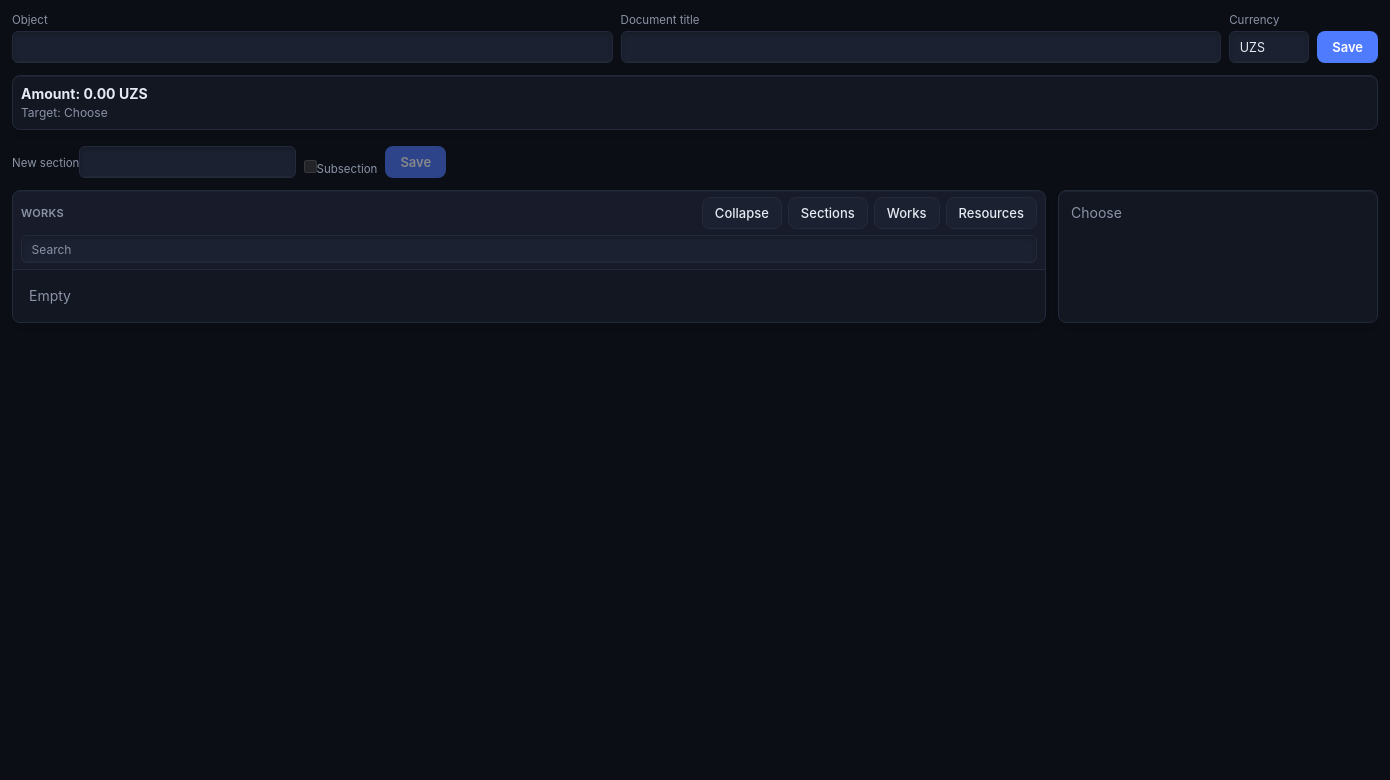
creates root section through canonical command and makes it the catalog target
This screenshot has width=1390, height=780.
Type "Foundations" into the field labelled "New section" at (188, 162), box [79,146,296,178]
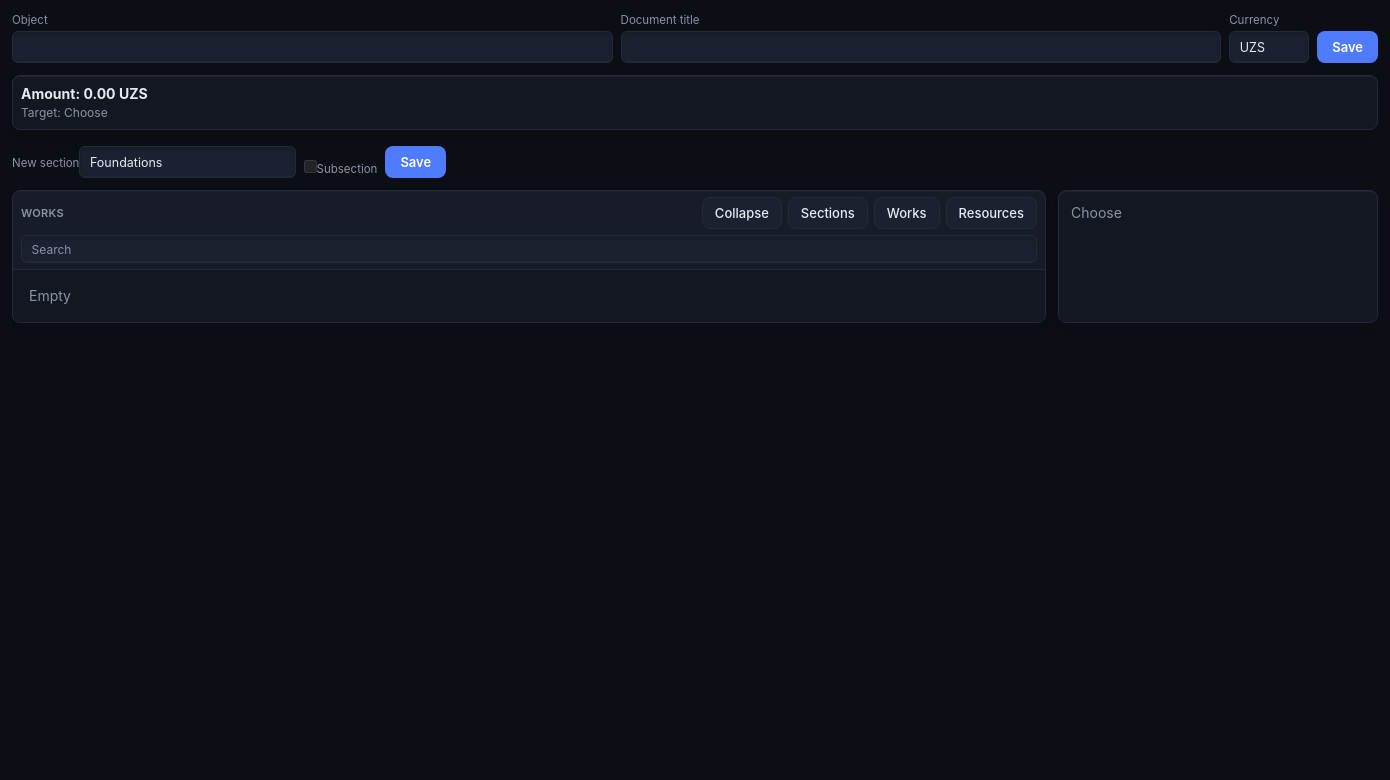
Submit the form labelled "New section", box [12,146,446,178]
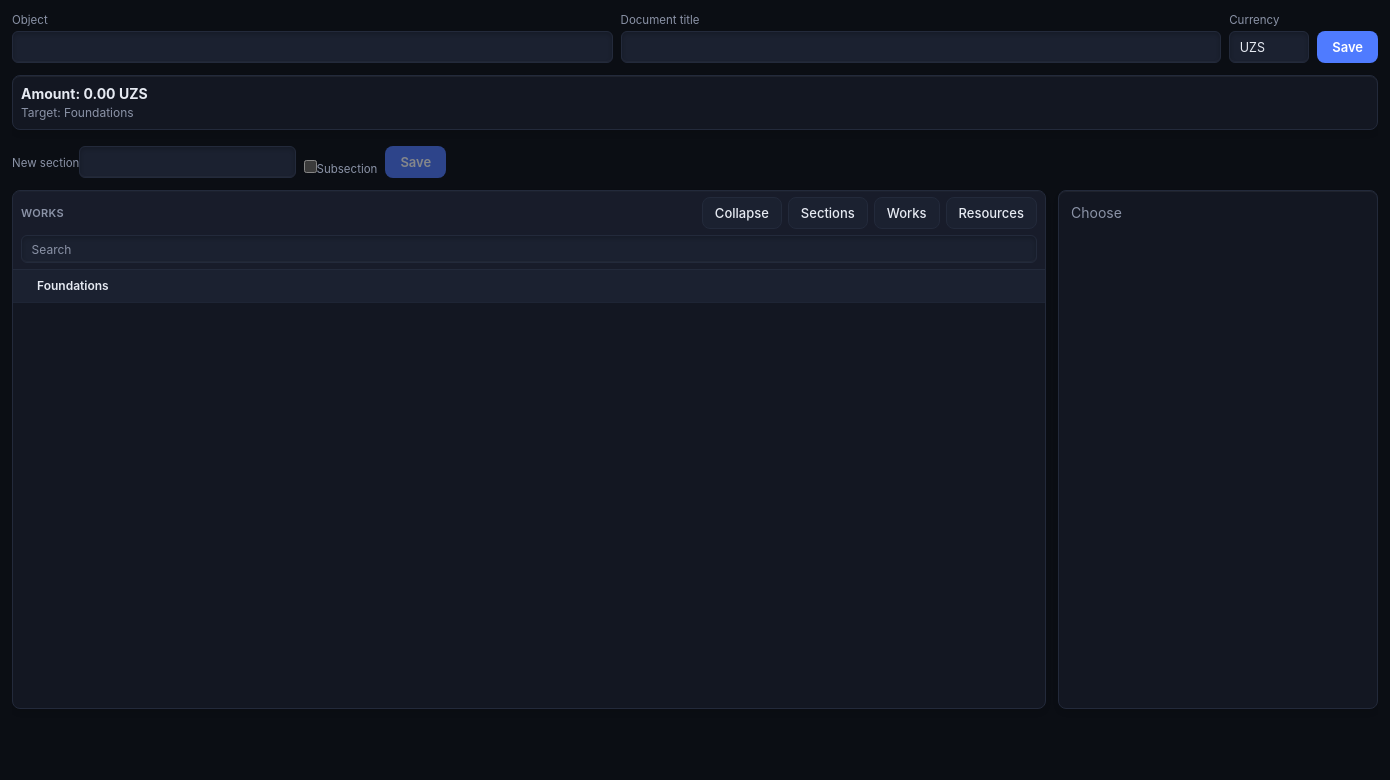
expect the text "Target: Foundations" is shown: met, box [21,105,134,120]
